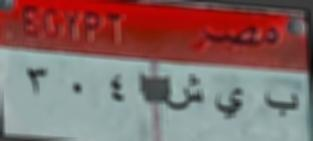0: (69, 78, 86, 102)
3: (23, 59, 53, 100)
4: (106, 72, 130, 110)
baa: (261, 87, 301, 121)
sheen: (162, 65, 208, 117)
yaa: (212, 82, 247, 125)
